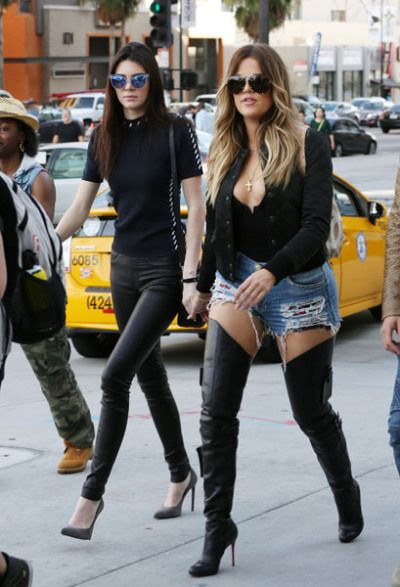Person: (194, 35, 367, 564), (69, 44, 186, 566)
